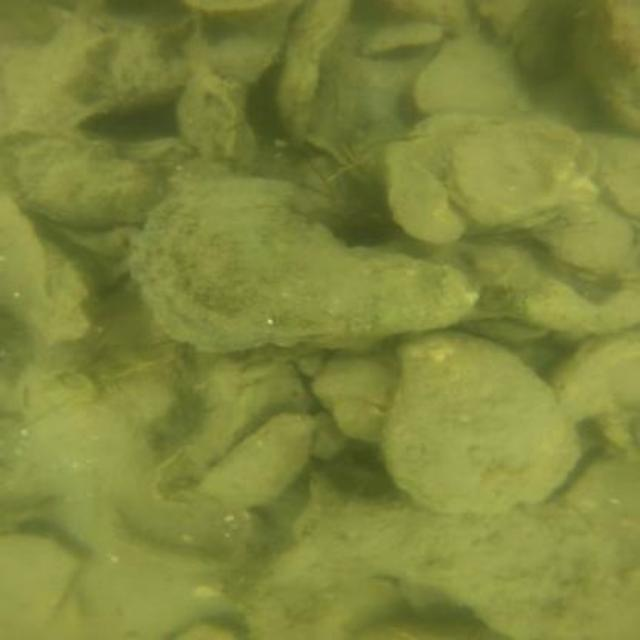Oyster-Closed: (130, 173, 473, 350), (236, 496, 638, 640), (384, 323, 579, 508), (156, 358, 313, 510), (1, 122, 166, 223), (375, 114, 496, 244), (0, 193, 91, 339), (111, 483, 250, 567), (199, 415, 310, 509), (413, 33, 526, 113), (573, 1, 637, 136), (555, 327, 640, 428), (250, 579, 400, 636), (546, 216, 639, 277), (310, 342, 397, 404)
Oyster-Open: (0, 520, 92, 640)
